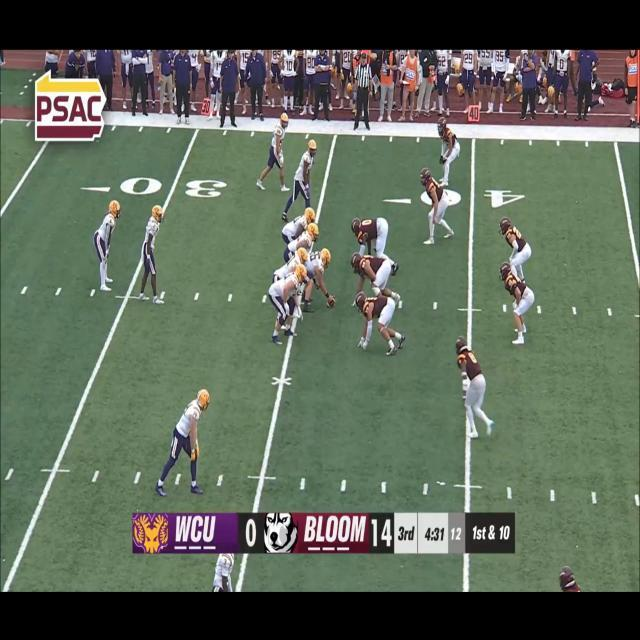football: (326, 294, 338, 312)
